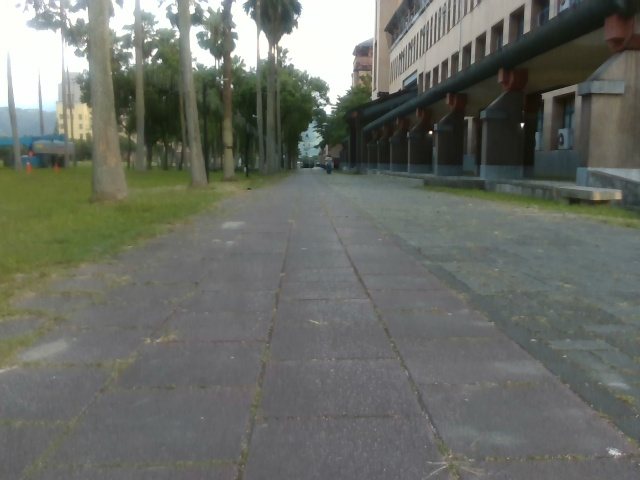grass: (14, 0, 371, 200), (0, 160, 295, 321), (423, 181, 639, 228)
road: (0, 170, 639, 479)
